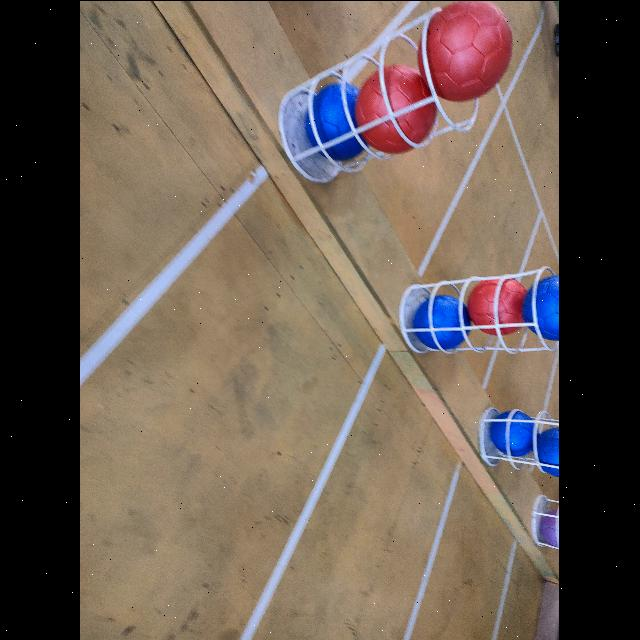B: (307, 81, 361, 160), (417, 294, 471, 350), (489, 410, 538, 458), (526, 274, 560, 340), (538, 424, 560, 478)
R: (418, 0, 514, 100), (359, 63, 437, 153), (468, 277, 528, 335)
